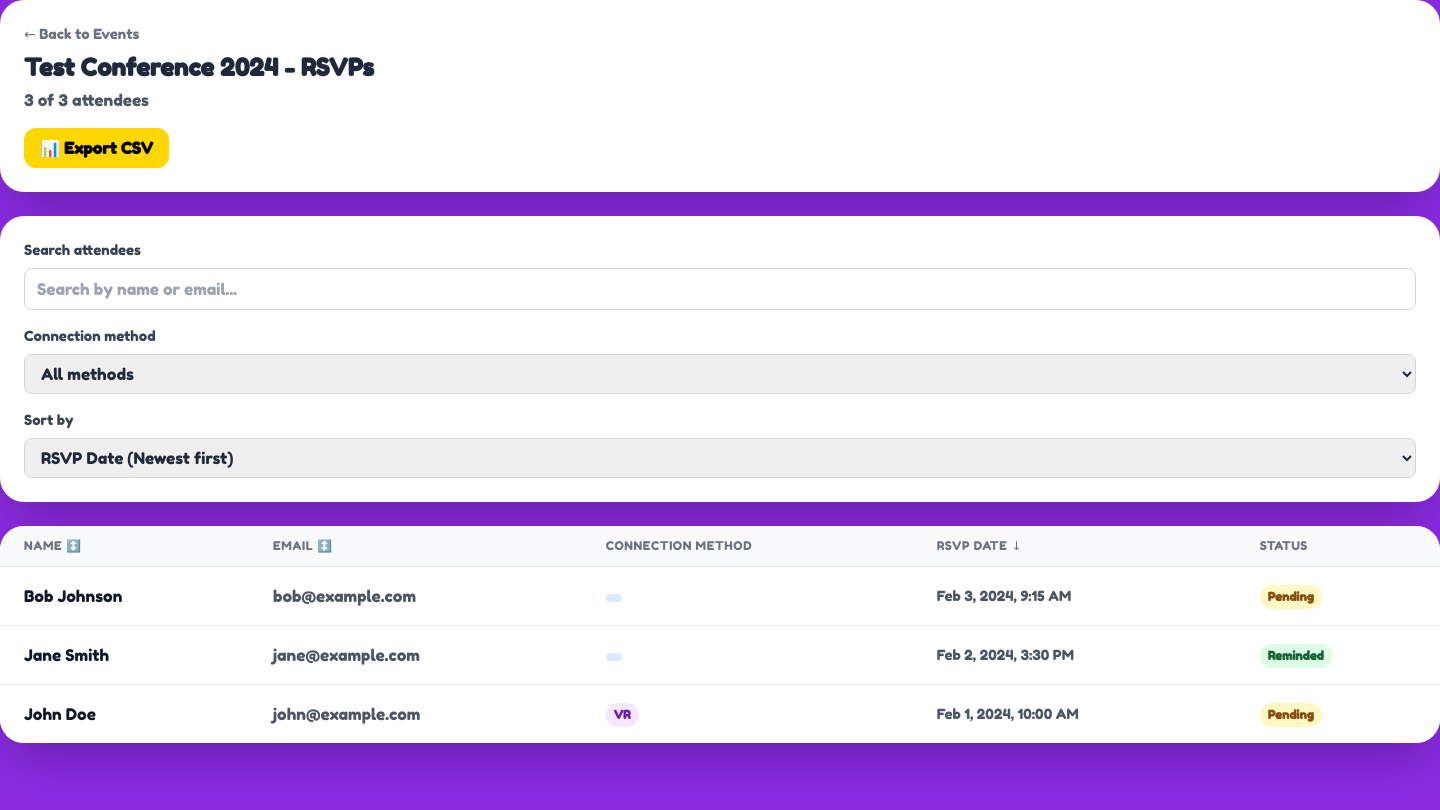
RsvpList Component › Search and Filter Functionality › should combine search and filter criteria
Expected: the text "John Doe" is shown, [24, 704, 96, 724]
Note: Filter by ZOOM connection method
Step 1. Select "All methods" in the 1st dropdown showing "All methods" → point(720, 374), box [24, 354, 1416, 394]
Note: Search for "Jane"
Step 2. Type "Jane" into the field with placeholder "Search by name or email..." → point(720, 289), box [24, 268, 1416, 310]
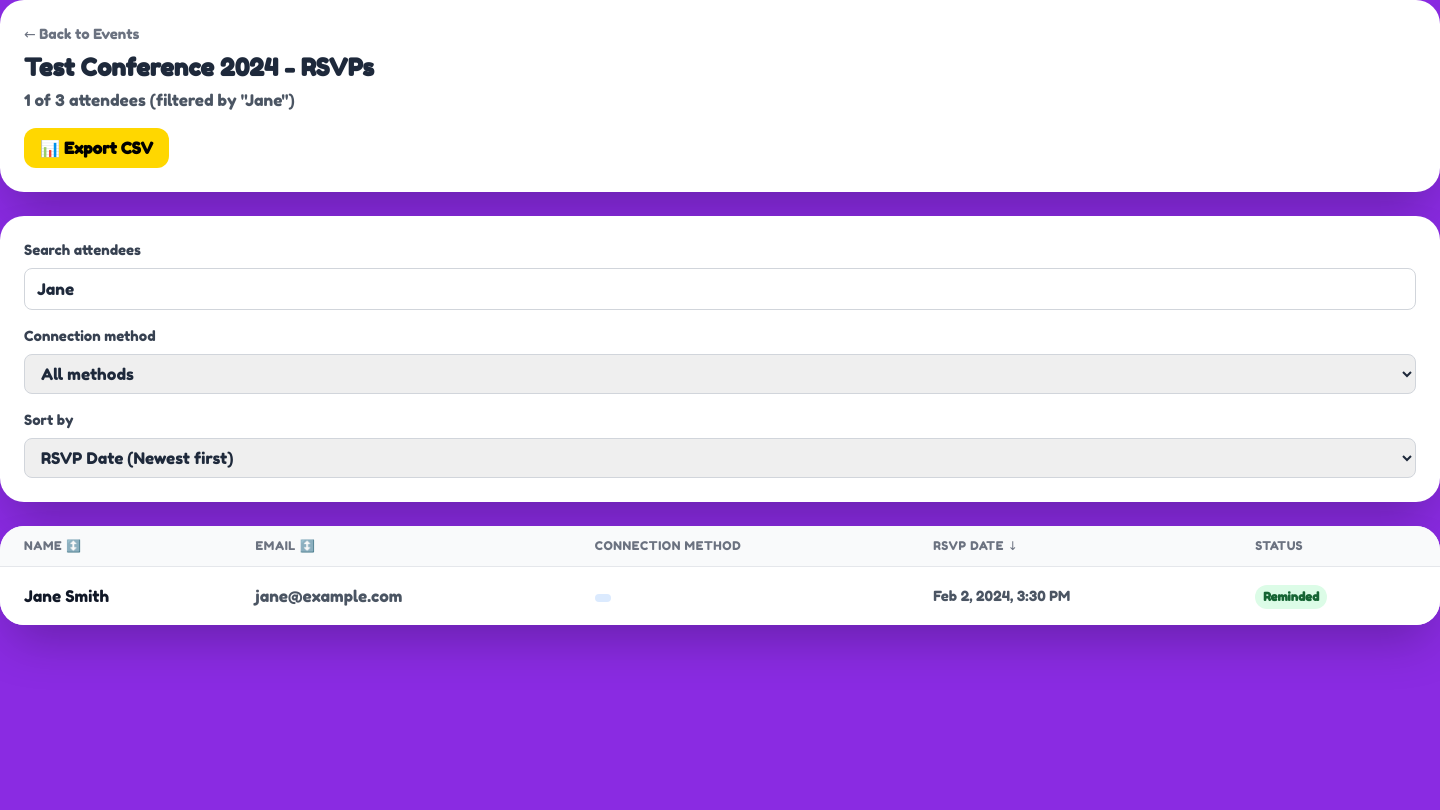
Expected: the text "Jane Smith" is shown, [24, 586, 109, 606]
Expected: the text "John Doe" is gone
Expected: the text "Bob Johnson" is gone
